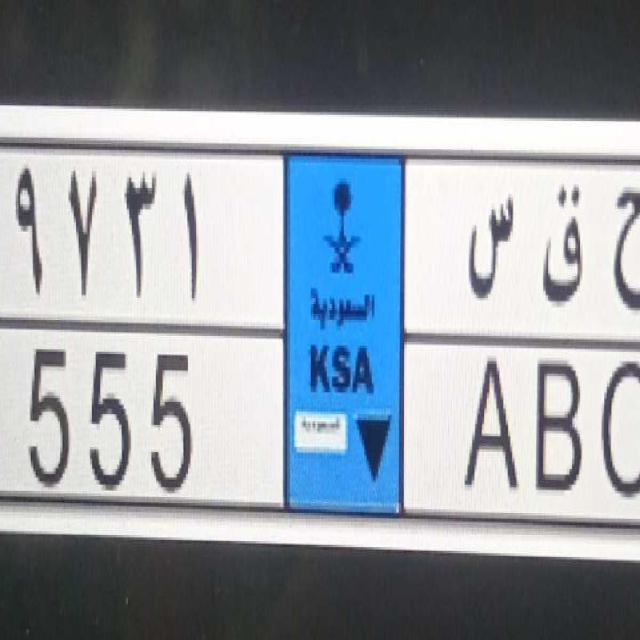license_plate: (0, 309, 640, 560)
